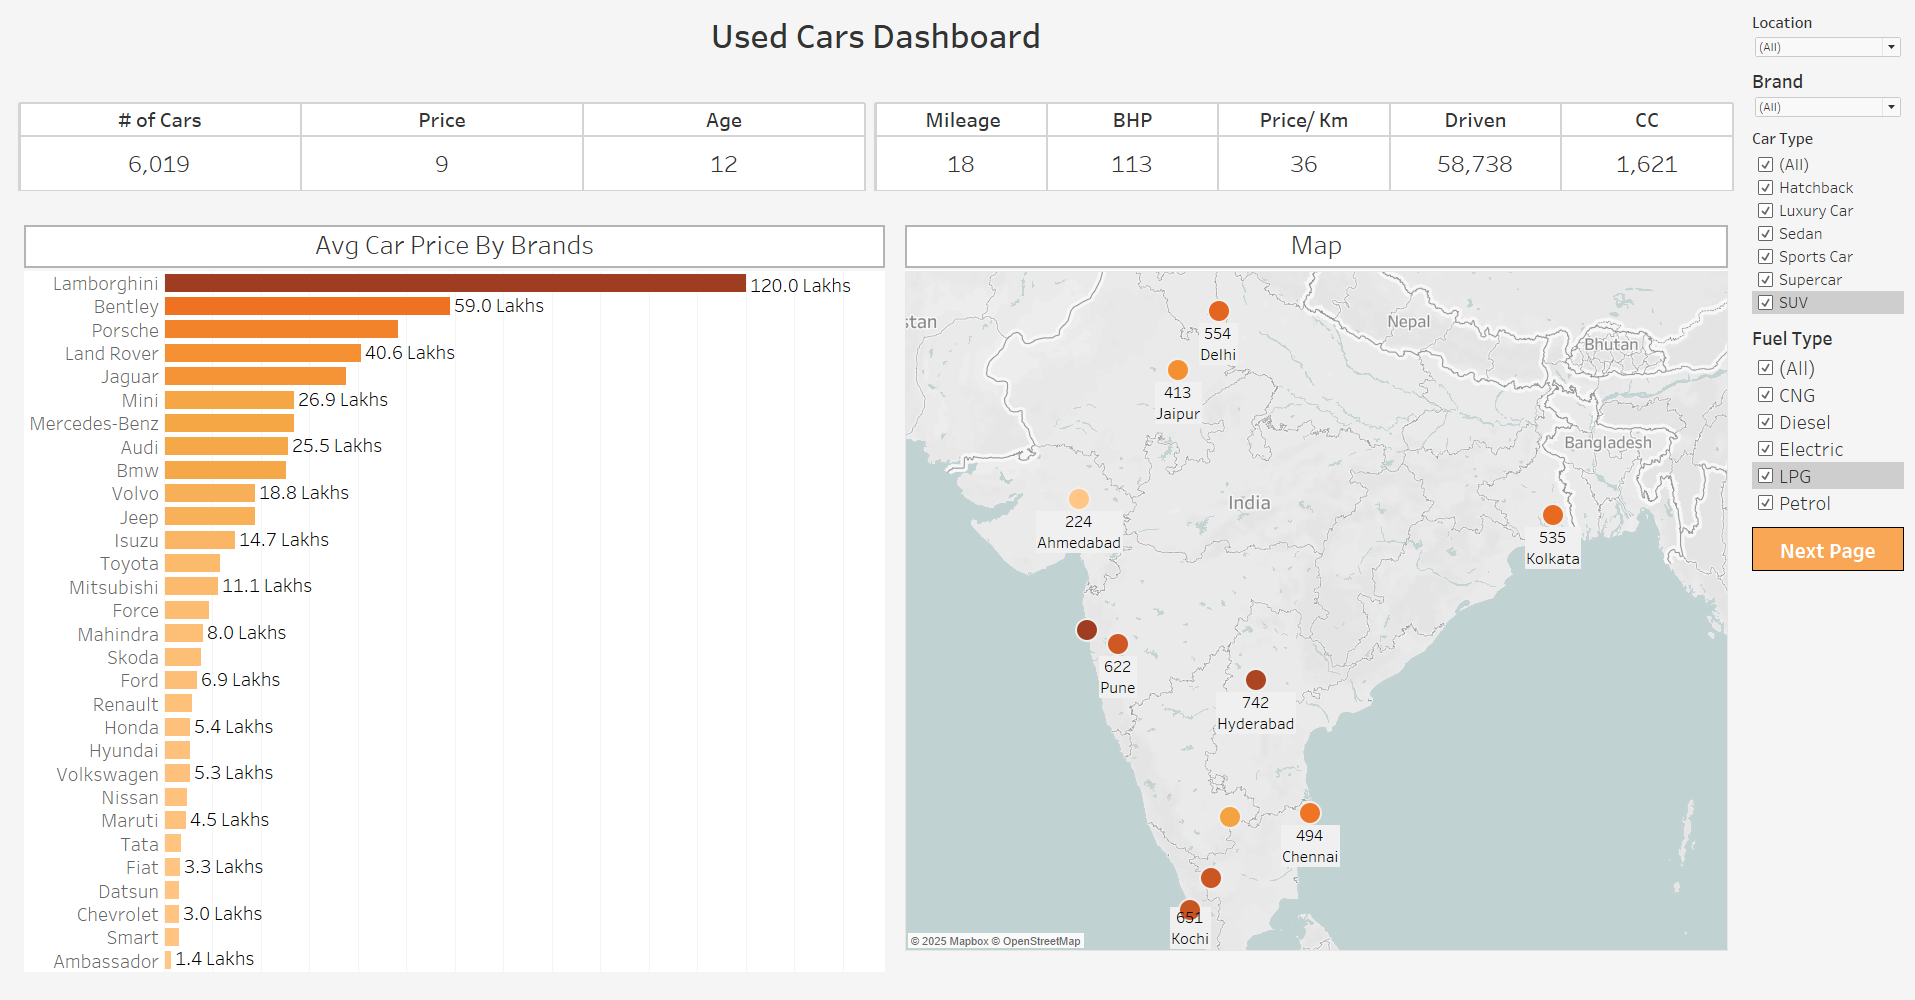

The dashboard page shown, as its layout file describes it:
{"tool":"tableau","page":{"name":"Used Cars Dashboard","canvas":[1000,1000],"units":"permille","ordinal":0},"visuals":[{"type":"title","box":[4.8,9.3,893.8,61.6]},{"type":"filter","title":"Map","param":"[federated.1cgvcd90rgtdlv14cw8tb1lmjpyf].[none:Location:nk]","box":[898.6,9.3,96.6,70.9]},{"type":"filter","title":"Avg Car Price By Brands","param":"[federated.1cgvcd90rgtdlv14cw8tb1lmjpyf].[none:Brand:nk]","box":[898.6,80.1,96.6,75.5]},{"type":"worksheet","title":"Facts","mark":"Automatic","box":[10.9,100.2,357.8,94.4]},{"type":"worksheet","title":"Facts (2)","mark":"Automatic","box":[368.7,100.2,523.8,94.4]},{"type":"filter","title":"Car type in market","param":"[federated.1cgvcd90rgtdlv14cw8tb1lmjpyf].[none:Car_Type:nk]","box":[898.6,155.6,96.6,228.8]},{"type":"worksheet","title":"Car type in market","mark":"Pie","rows":["Calculation_880735237177962498","Calculation_880735237177987076"],"box":[4.2,205.7,139.1,786.1]},{"type":"worksheet","title":"Mileage By Fuel Type","mark":"Automatic","rows":["Calculation_1525875883309469696"],"cols":["Fuel_Type"],"box":[4.2,205.7,288.5,786.2]},{"type":"worksheet","title":"Avg Car Price By Brands","mark":"Automatic","rows":["Brand"],"cols":["Price"],"box":[10.9,217.8,452.3,761.3]},{"type":"worksheet","title":"Map","mark":"Automatic","box":[463.2,217.8,429.4,761.3]},{"type":"filter","title":"Mileage By Fuel Type","param":"[federated.1cgvcd90rgtdlv14cw8tb1lmjpyf].[none:Fuel_Type:nk]","box":[898.6,384.4,96.6,234.6]},{"type":"dashboard-object","box":[898.6,619,96.6,60.4]}]}

Visuals, with their boxes on the dashboard's canvas, which has no fixed pixel size, in thousandths of its width and height (x1, y1, x2, y2). These are canvas units, not pixel positions in the 1915x1000 screenshot, which may show the page scaled, cropped or inside an application window:
title: pyautogui.locateOnScreen(5, 9, 899, 71)
"Map" filter: pyautogui.locateOnScreen(899, 9, 995, 80)
"Avg Car Price By Brands" filter: pyautogui.locateOnScreen(899, 80, 995, 156)
"Facts" worksheet: pyautogui.locateOnScreen(11, 100, 369, 195)
"Facts (2)" worksheet: pyautogui.locateOnScreen(369, 100, 892, 195)
"Car type in market" filter: pyautogui.locateOnScreen(899, 156, 995, 384)
"Car type in market" worksheet (Pie marks): pyautogui.locateOnScreen(4, 206, 143, 992)
"Mileage By Fuel Type" worksheet: pyautogui.locateOnScreen(4, 206, 293, 992)
"Avg Car Price By Brands" worksheet: pyautogui.locateOnScreen(11, 218, 463, 979)
"Map" worksheet: pyautogui.locateOnScreen(463, 218, 893, 979)
"Mileage By Fuel Type" filter: pyautogui.locateOnScreen(899, 384, 995, 619)
dashboard-object: pyautogui.locateOnScreen(899, 619, 995, 679)
